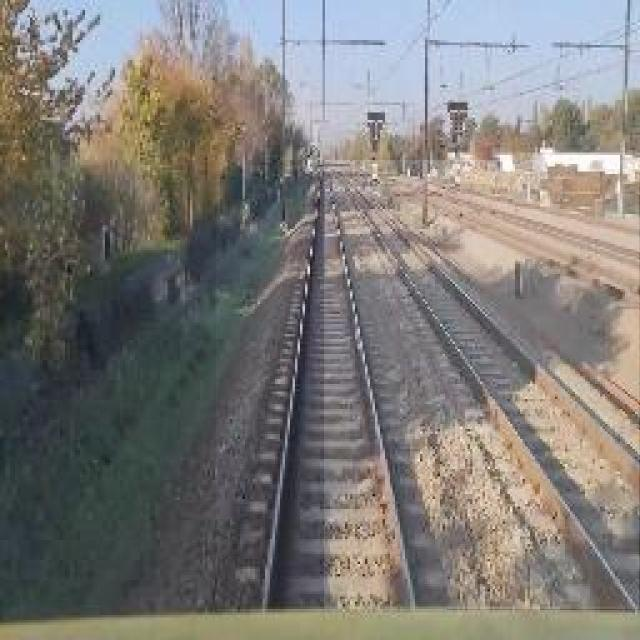rail: (325, 161, 640, 610), (218, 167, 448, 612)
